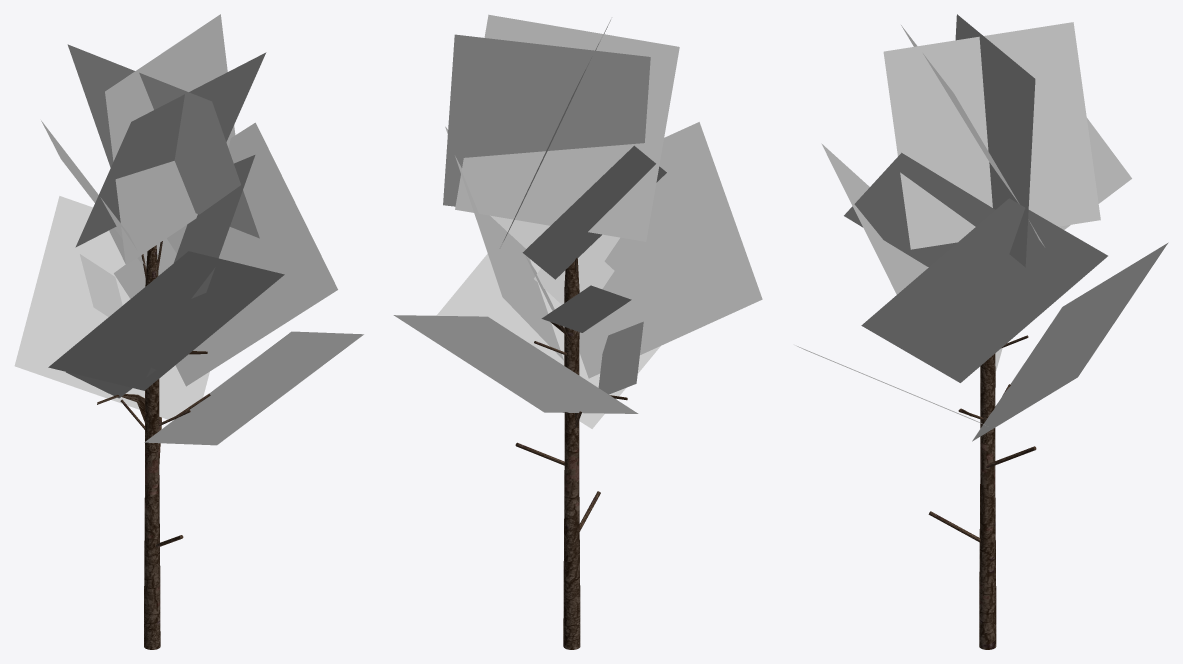
File: LowTree.fbx
3 views of the same model, side by side, from view 1: azimuth 30°, elevation 25°; view 2: azimuth 150°, elevation 25°; view 3: azimuth 270°, elevation 25° (orthographic). The views are drawn at different scales.
Visible parts, largest first — view 1: pPlane5, pPlane3, pPlane4, pPlane7, pPlane8, pPlane6, pPlane9, tree_base1, pPlane2, pPlane12, pPlane11, pPlane1 (+1 smaller); view 2: pPlane7, pPlane5, pPlane9, pPlane4, tree_base1, pPlane1, pPlane6, pPlane3, pPlane13, pPlane12, pPlane2, pPlane10; view 3: pPlane8, pPlane3, pPlane4, pPlane7, pPlane2, tree_base1, pPlane5, pPlane1, pPlane9.
Part boxes in pixels (x1=…): pPlane5: x1=48, y1=251, x2=284, y2=390; pPlane3: x1=109, y1=122, x2=337, y2=386; pPlane4: x1=14, y1=196, x2=209, y2=420; pPlane7: x1=105, y1=14, x2=235, y2=265; pPlane8: x1=67, y1=44, x2=259, y2=238; pPlane6: x1=144, y1=331, x2=363, y2=445; pPlane9: x1=75, y1=52, x2=266, y2=247; tree_base1: x1=97, y1=241, x2=210, y2=649; pPlane2: x1=174, y1=155, x2=255, y2=298; pPlane12: x1=80, y1=254, x2=122, y2=316; pPlane11: x1=114, y1=238, x2=176, y2=298; pPlane1: x1=41, y1=120, x2=146, y2=268; pPlane7: x1=443, y1=34, x2=650, y2=206; pPlane5: x1=579, y1=122, x2=762, y2=378; pPlane9: x1=455, y1=14, x2=679, y2=241; pPlane4: x1=393, y1=315, x2=638, y2=413; tree_base1: x1=515, y1=258, x2=627, y2=649; pPlane1: x1=522, y1=145, x2=666, y2=279; pPlane6: x1=436, y1=253, x2=660, y2=428; pPlane3: x1=445, y1=126, x2=563, y2=360; pPlane13: x1=598, y1=321, x2=643, y2=394; pPlane12: x1=541, y1=285, x2=631, y2=332; pPlane2: x1=490, y1=215, x2=619, y2=292; pPlane10: x1=534, y1=261, x2=614, y2=304; pPlane8: x1=883, y1=22, x2=1100, y2=249; pPlane3: x1=861, y1=198, x2=1107, y2=382; pPlane4: x1=972, y1=242, x2=1168, y2=441; pPlane7: x1=955, y1=14, x2=1035, y2=267; pPlane2: x1=844, y1=152, x2=1033, y2=267; tree_base1: x1=928, y1=335, x2=1036, y2=649; pPlane5: x1=821, y1=143, x2=978, y2=368; pPlane1: x1=1058, y1=117, x2=1131, y2=229; pPlane9: x1=901, y1=25, x2=1044, y2=246.
Bounding box in the file's own units: 396 × 788 × 439.
